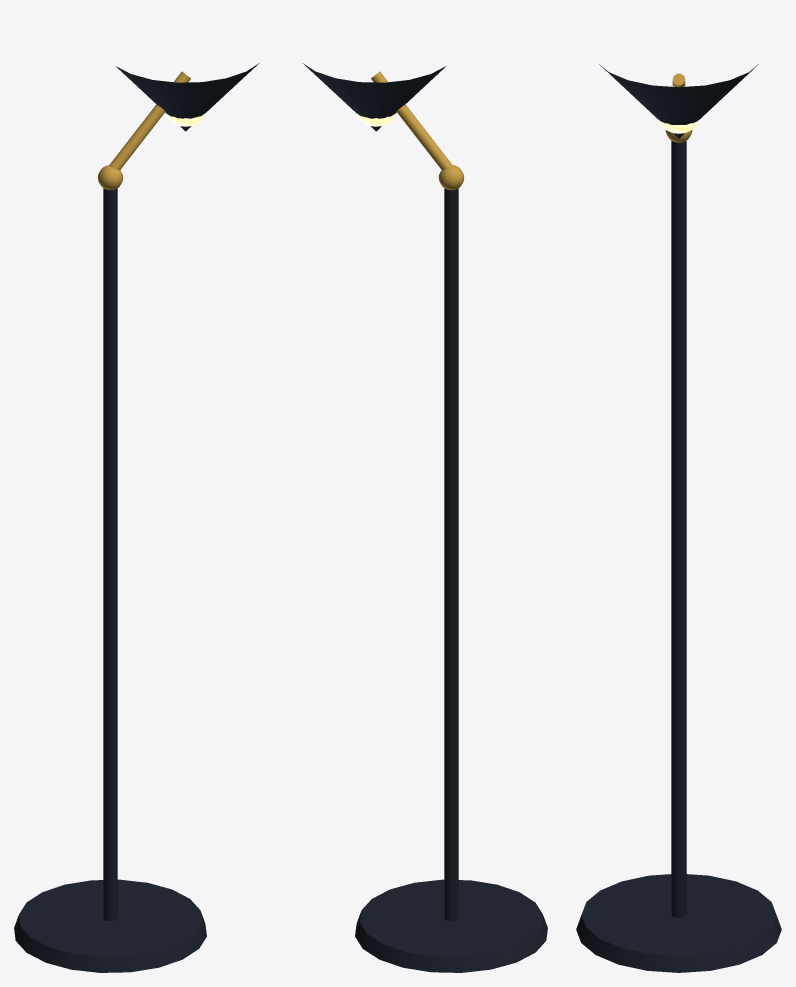
Rendered from floor_lamp.glb.
3 renders of one model, left to right at view 1: azimuth 30°, elevation 25°; view 2: azimuth 150°, elevation 25°; view 3: azimuth 270°, elevation 25°, orthographic. The views are drawn at different scales.
Visible parts, largest first — view 1: FloorLamp; view 2: FloorLamp; view 3: FloorLamp.
Boxes of the visible parts, left/top/right/bottom form: FloorLamp: left=14, top=63, right=259, bottom=972; FloorLamp: left=302, top=63, right=547, bottom=972; FloorLamp: left=576, top=64, right=781, bottom=972.
Size of the model in its own units: 0.52 by 1.87 by 0.38.
